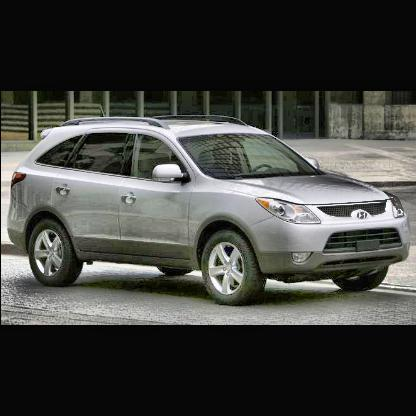Hyundai Veracruz SUV 2012: (9, 117, 412, 306)
